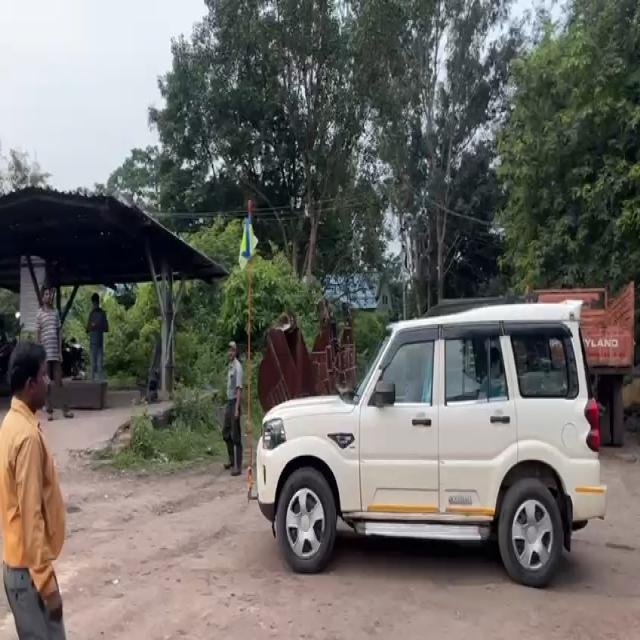light_vehicle: (256, 302, 606, 581)
